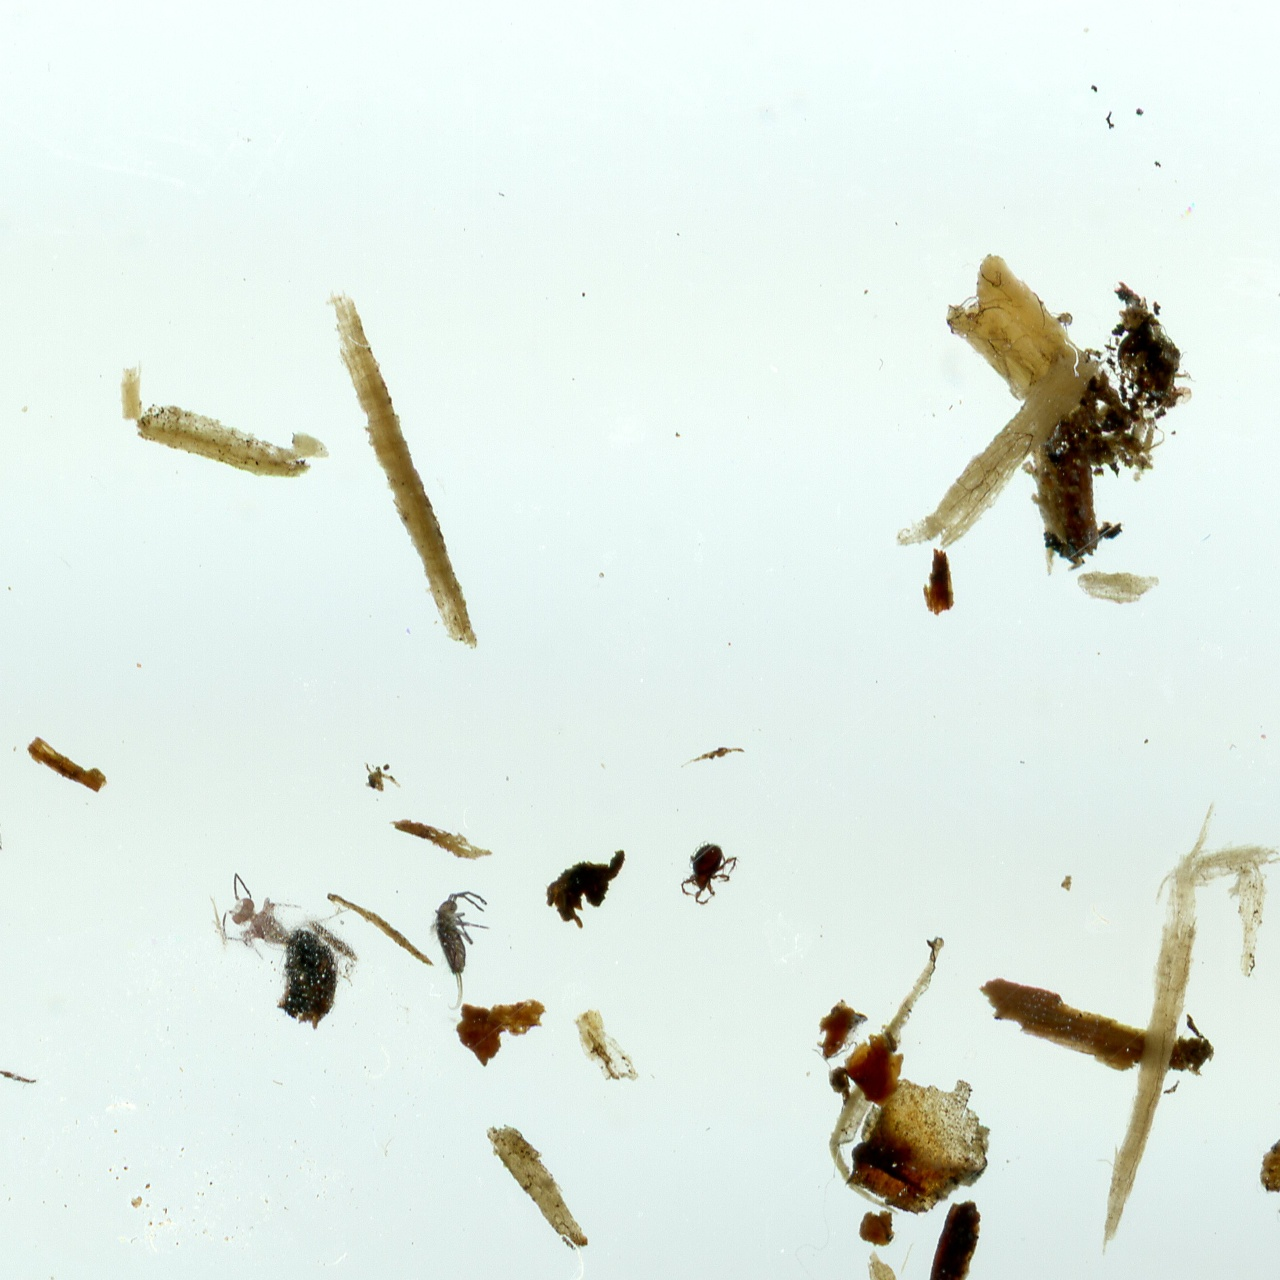arthropod: (196, 858, 320, 980), (420, 886, 492, 1013), (675, 837, 745, 908)
